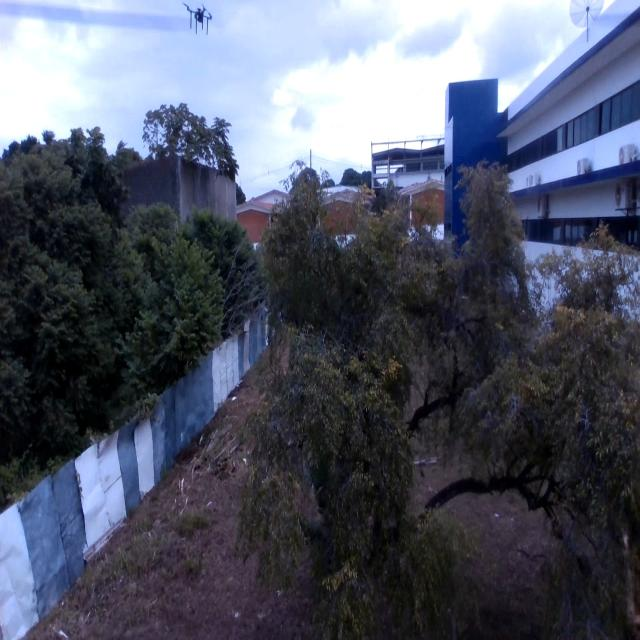-uav-: (184, 0, 223, 47)
